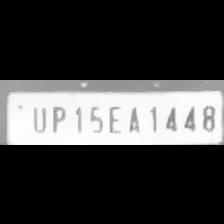1: (68, 100, 86, 134), (143, 101, 159, 133)
4: (161, 100, 179, 132), (179, 101, 197, 131)
5: (84, 100, 104, 134)
8: (197, 100, 217, 132)
A: (123, 100, 143, 134)
E: (104, 100, 122, 134)
P: (46, 100, 66, 134)
U: (26, 102, 48, 132)
